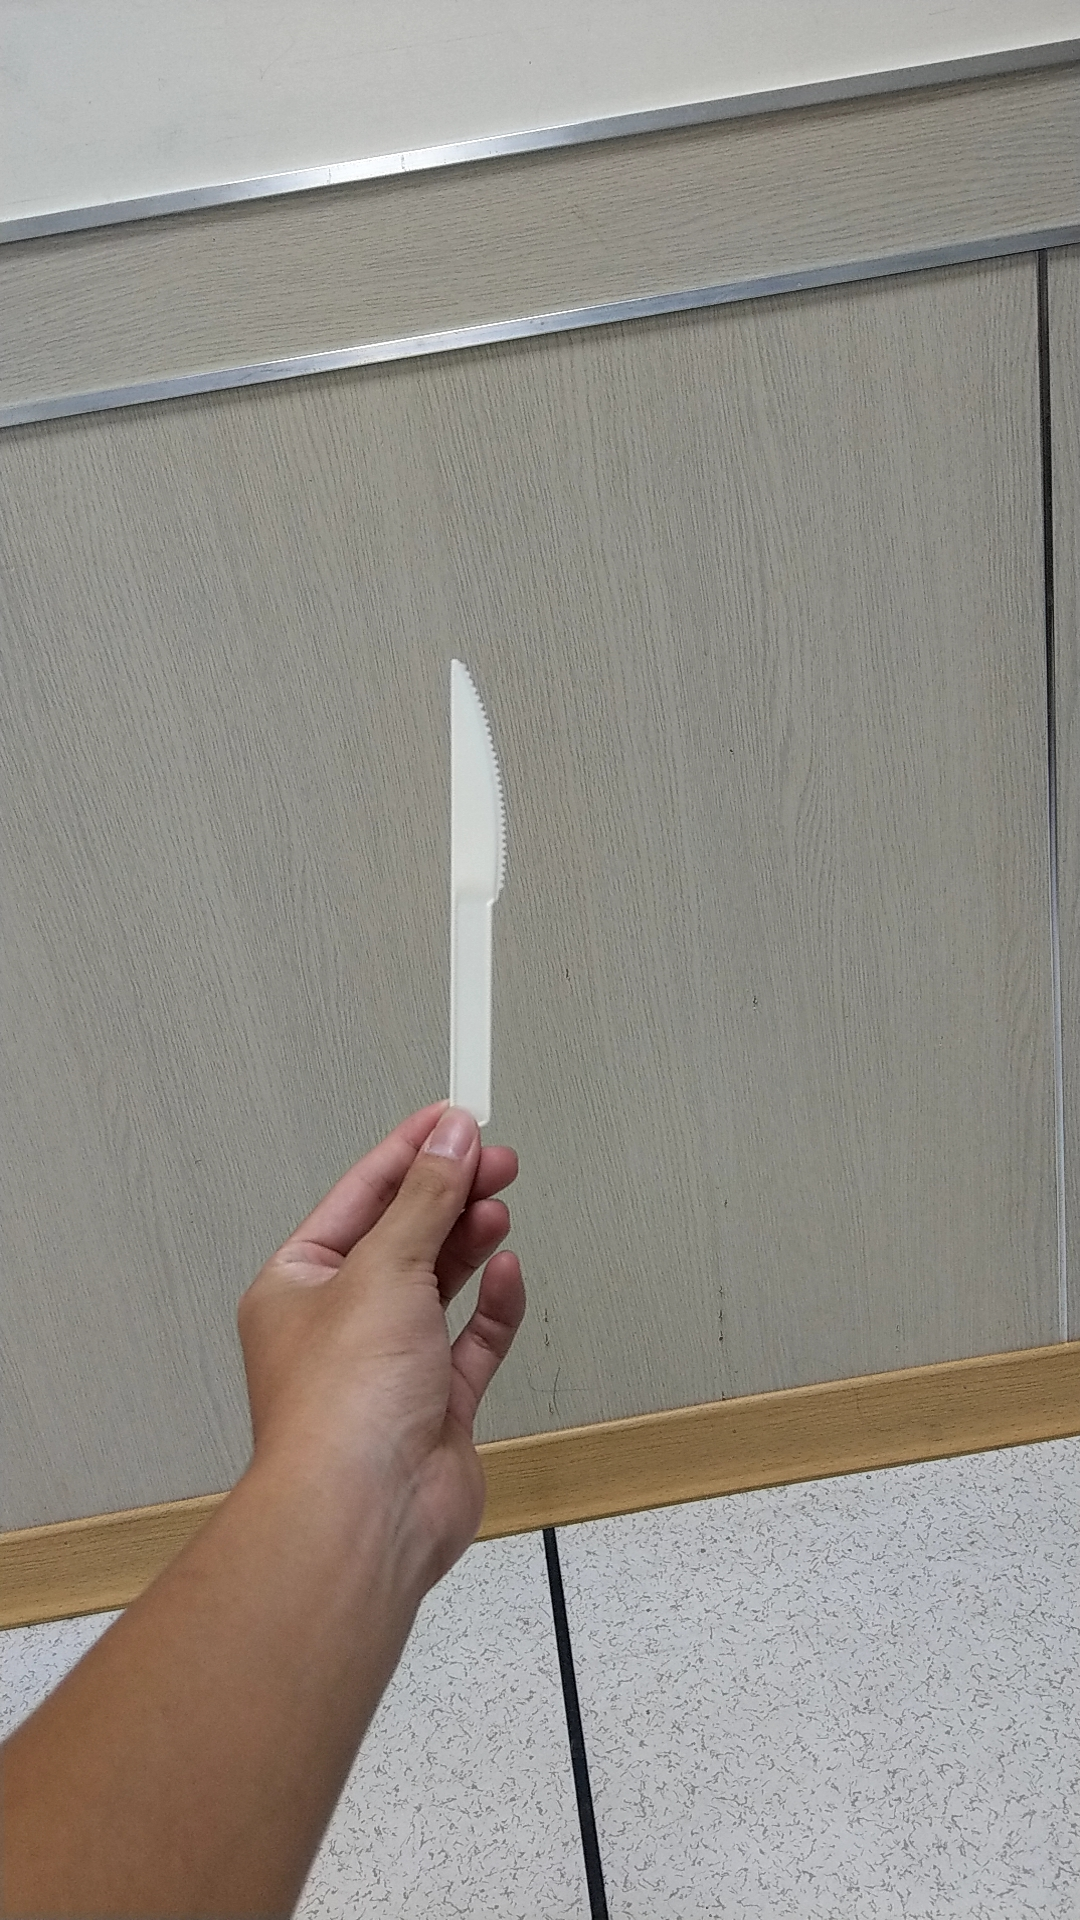knife: (411, 640, 547, 1118)
